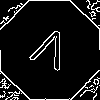V: (25, 25, 73, 80)
